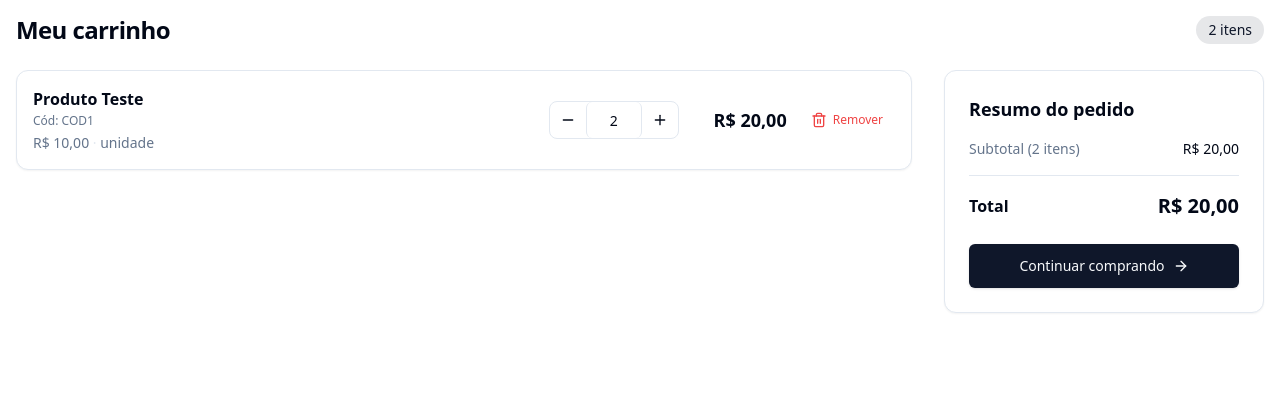
Scenario: CartPage › removes item when clicking remove
Click the button with aria-label "remover do carrinho": coordinates (847, 120) x1=799 y1=102 x2=895 y2=138
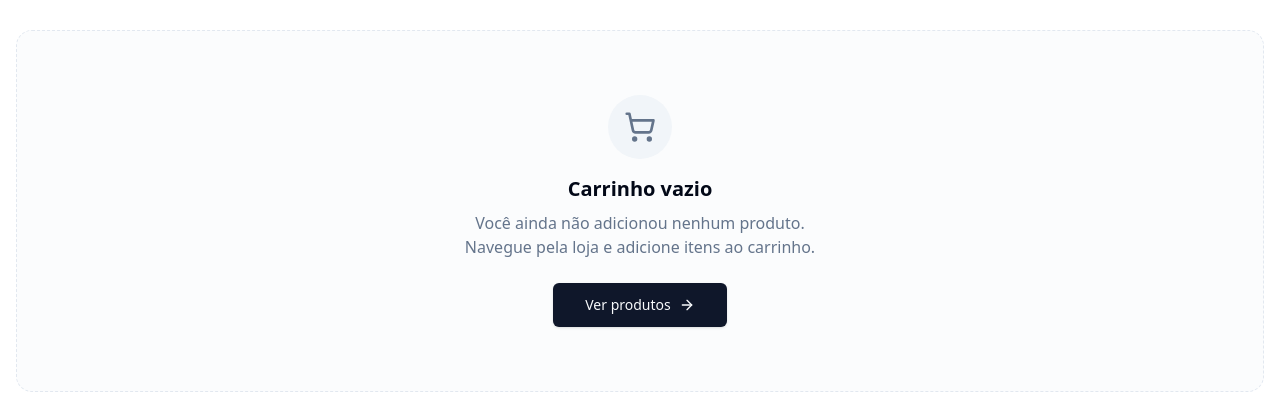
Expected: the element with test id "cart-empty" is shown
